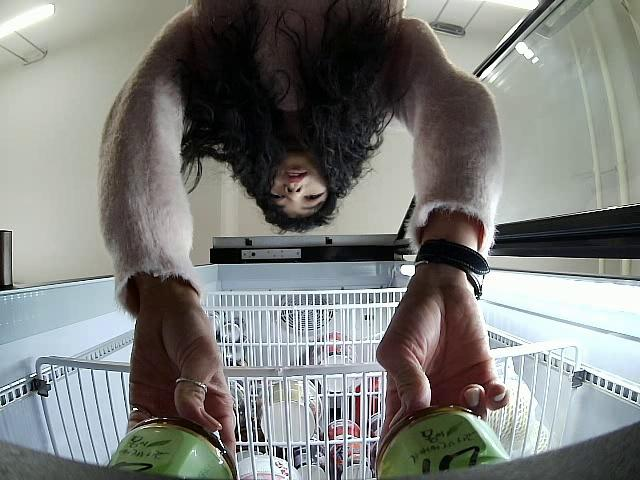00_hand: (374, 284, 509, 457), (127, 305, 237, 463)
19_17cha: (371, 406, 511, 480), (103, 417, 239, 480)
